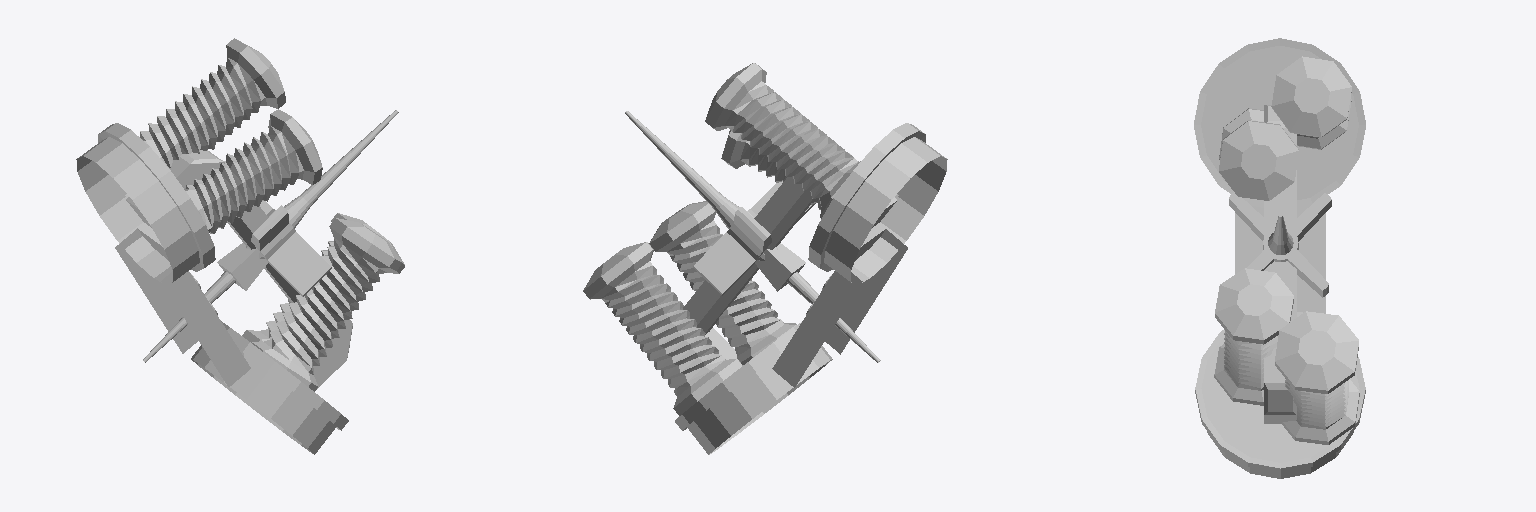
Rendered from JammingDevice.obj.
3 views of the same model, side by side, from view 1: azimuth 30°, elevation 25°; view 2: azimuth 150°, elevation 25°; view 3: azimuth 270°, elevation 25° (orthographic).
Parts seen in each view (by area): view 1: JammingDevice_Cylinder.001; view 2: JammingDevice_Cylinder.001; view 3: JammingDevice_Cylinder.001.
Boxes of the visible parts, x1=… form: JammingDevice_Cylinder.001: x1=76, y1=38, x2=404, y2=454; JammingDevice_Cylinder.001: x1=583, y1=63, x2=947, y2=454; JammingDevice_Cylinder.001: x1=1194, y1=38, x2=1365, y2=478.
Bounding box in the file's own units: 5.63 × 6.76 × 2.64.